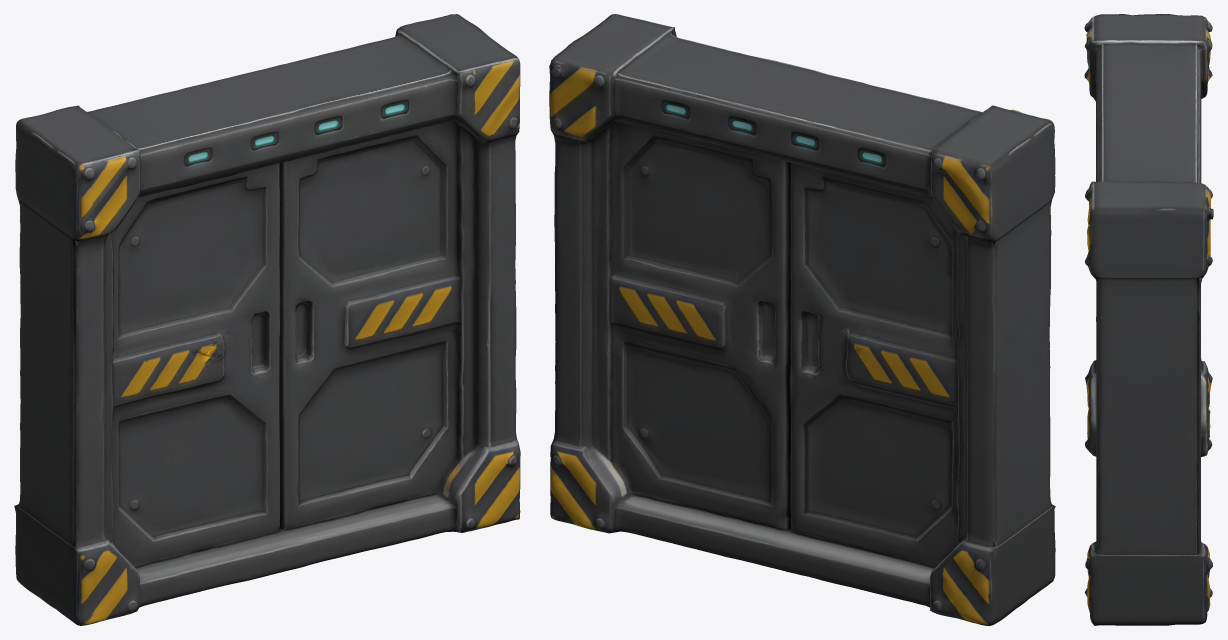
The model's file is industrial_metal_door_3d_model.fbx.
3 views of the same model, side by side, from view 1: azimuth 30°, elevation 25°; view 2: azimuth 150°, elevation 25°; view 3: azimuth 270°, elevation 25° (orthographic). The views are drawn at different scales.
Parts seen in each view (by area): view 1: tripo_node_8a30f282; view 2: tripo_node_8a30f282; view 3: tripo_node_8a30f282.
Boxes of the visible parts, left/top/right/bottom form: tripo_node_8a30f282: left=14, top=14, right=520, bottom=625; tripo_node_8a30f282: left=549, top=14, right=1055, bottom=625; tripo_node_8a30f282: left=1084, top=14, right=1213, bottom=625.
Size of the model in its own units: 97.84 by 97.47 by 27.29.
Materials: 1 (1 with a texture image).
